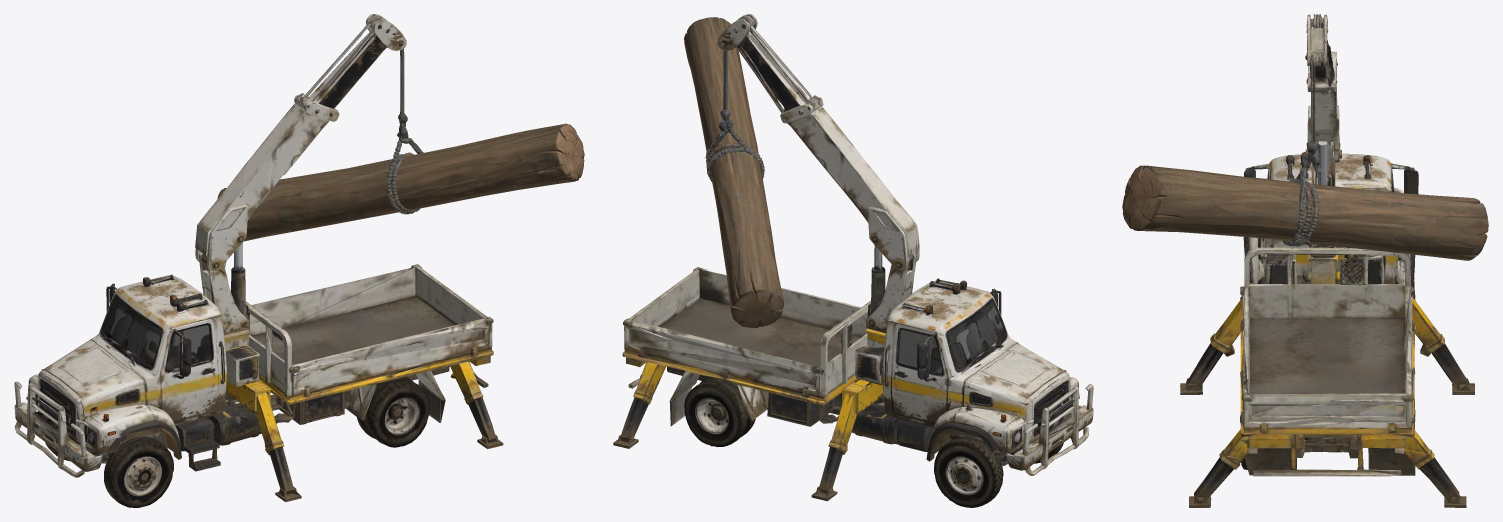
Rendered from crane_truck.glb.
3 renders of one model, left to right at view 1: azimuth 30°, elevation 25°; view 2: azimuth 150°, elevation 25°; view 3: azimuth 270°, elevation 25°, orthographic. The views are drawn at different scales.
Size of the model in its own units: 1.9 by 1.59 by 1.16.
Materials: 1 (1 with a texture image).
